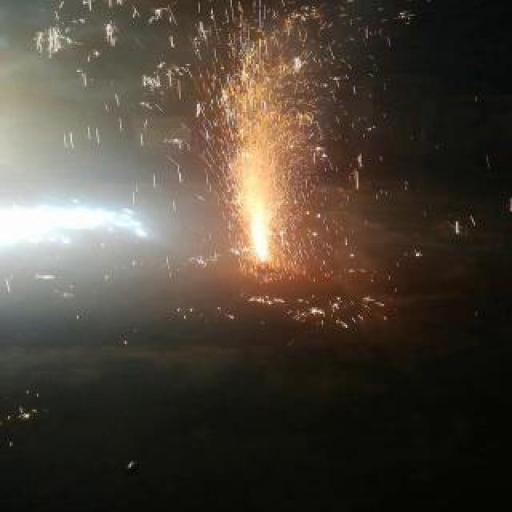smoke: (115, 0, 389, 296)
